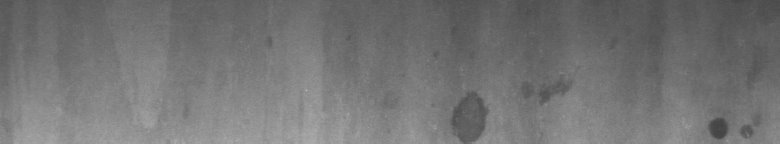fi: (703, 112, 760, 136)
